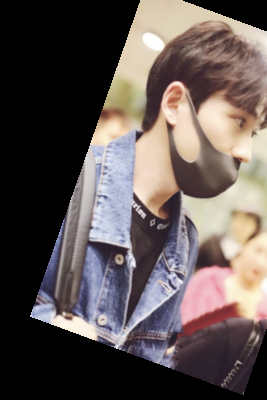mask_weared_incorrect: (139, 9, 267, 203)
